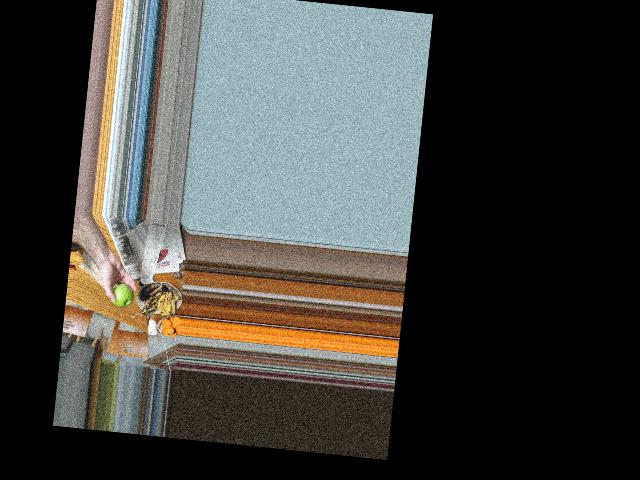apple: (107, 278, 135, 309)
